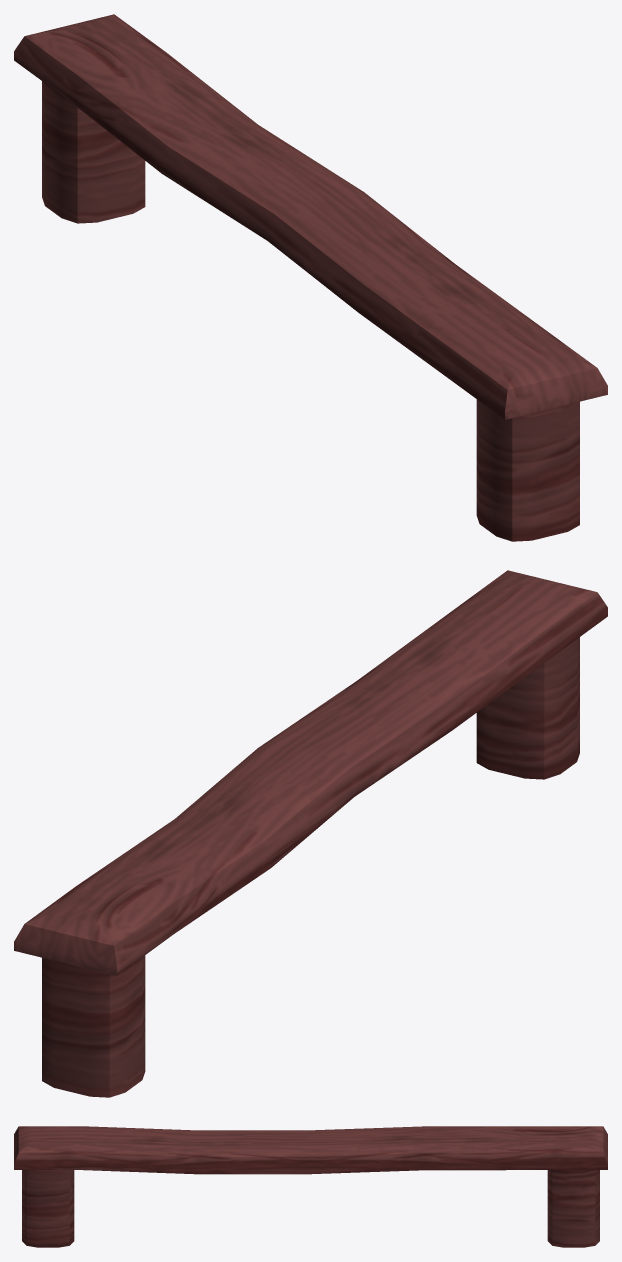
File: MOD_Step_Block.fbx
3 views of the same model, one above another, from view 1: azimuth 30°, elevation 25°; view 2: azimuth 150°, elevation 25°; view 3: azimuth 270°, elevation 25° (orthographic). The views are drawn at different scales.
Visible parts, largest first — view 1: MOD_Step_Block; view 2: MOD_Step_Block; view 3: MOD_Step_Block.
Part boxes in pixels (x1,y1,x2,y2): MOD_Step_Block: (14, 14, 607, 541); MOD_Step_Block: (14, 570, 607, 1097); MOD_Step_Block: (14, 1126, 607, 1247).
Size of the model in its own units: 55.52 by 77.1 by 413.
1 material, 1 textured.
